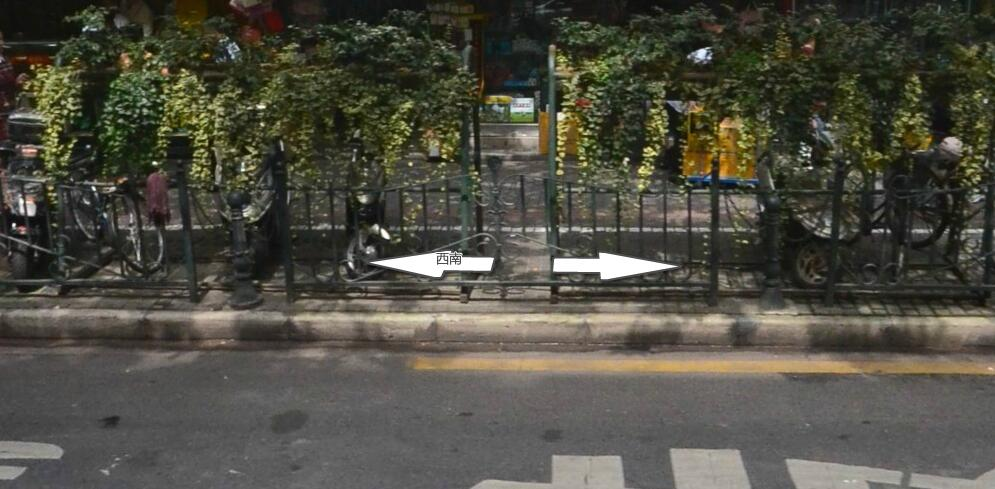side: (2, 308, 143, 342), (288, 312, 436, 343), (144, 311, 287, 343), (436, 313, 587, 343), (587, 314, 737, 344), (736, 314, 869, 347), (870, 313, 995, 348)
